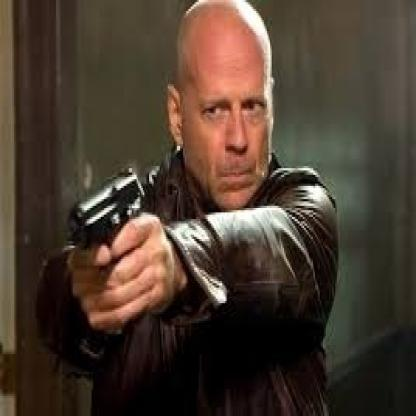Pistol: (65, 159, 149, 256)
